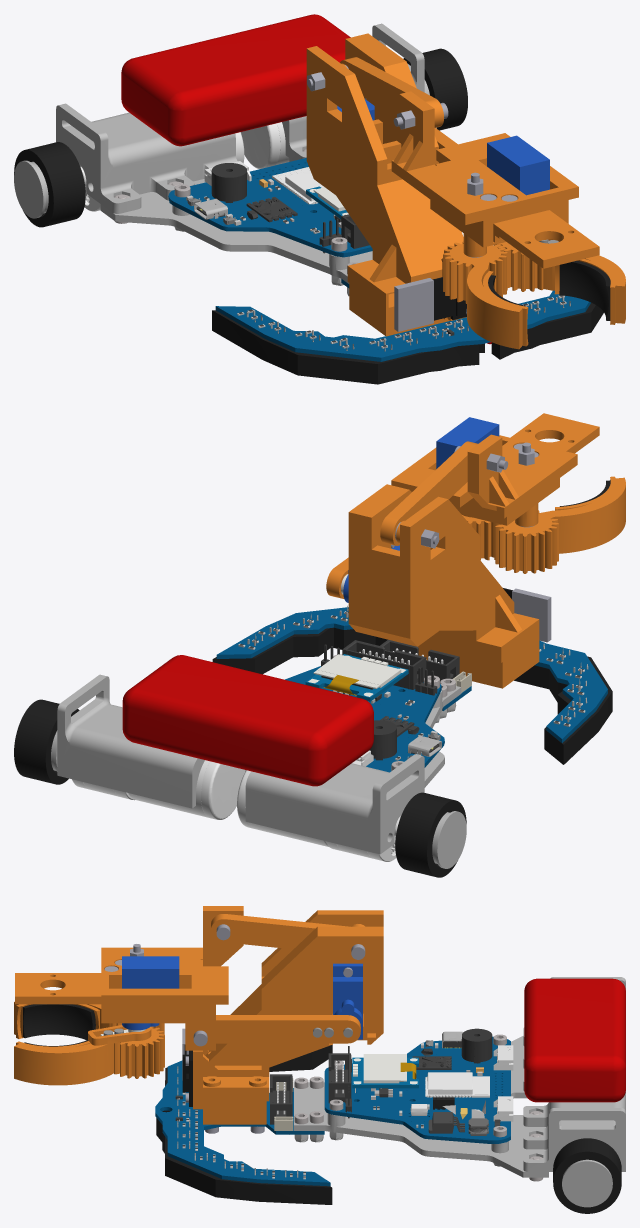
File: robot.glb
The picture shows the model from 3 angles, top to bottom: view 1: azimuth 30°, elevation 25°; view 2: azimuth 150°, elevation 25°; view 3: azimuth 270°, elevation 25°; orthographic projection. The views are drawn at different scales.
Visible parts, largest first — view 1: chassis_mesh, head_mesh, jaw_b_mesh, wheel_right_mesh, jaw_a_mesh, wheel_left_mesh, lift_follower_mesh; view 2: chassis_mesh, head_mesh, jaw_b_mesh, wheel_right_mesh, wheel_left_mesh, lift_follower_mesh, jaw_a_mesh; view 3: chassis_mesh, head_mesh, jaw_a_mesh, wheel_left_mesh, lift_input_mesh, jaw_b_mesh, lift_follower_mesh.
Part boxes in pixels (x1,y1,x2,y2): chassis_mesh: (56, 14, 603, 384); head_mesh: (391, 91, 599, 268); jaw_b_mesh: (443, 240, 528, 349); wheel_right_mesh: (14, 142, 85, 227); jaw_a_mesh: (494, 239, 625, 324); wheel_left_mesh: (403, 48, 467, 130); lift_follower_mesh: (340, 57, 443, 127); chassis_mesh: (57, 484, 612, 861); head_mesh: (391, 413, 599, 527); jaw_b_mesh: (494, 476, 625, 573); wheel_right_mesh: (395, 792, 466, 877); wheel_left_mesh: (14, 699, 79, 784); lift_follower_mesh: (380, 441, 477, 545); jaw_a_mesh: (462, 515, 494, 560); chassis_mesh: (155, 910, 625, 1204); head_mesh: (15, 906, 243, 1050); jaw_a_mesh: (14, 1025, 164, 1085); wheel_left_mesh: (553, 1138, 621, 1213); lift_input_mesh: (216, 1015, 360, 1043); jaw_b_mesh: (14, 1001, 164, 1040); lift_follower_mesh: (211, 914, 347, 949).
Bounding box in the file's own units: 0.166 × 0.0903 × 0.2406.
